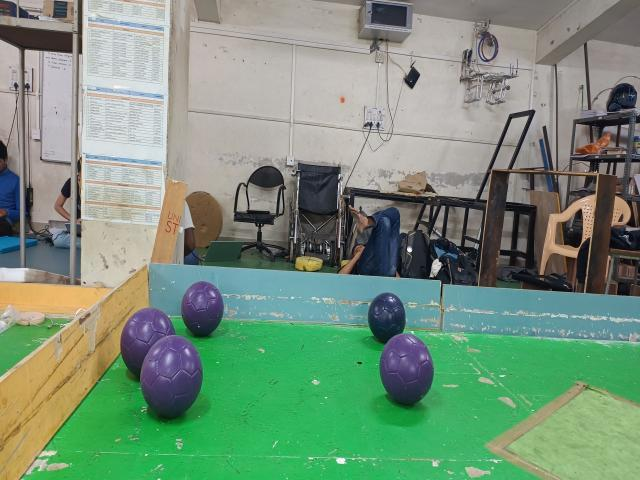jambhalya: (140, 335, 202, 418), (380, 333, 434, 405), (120, 307, 175, 377), (181, 282, 224, 337)
kaalyya: (368, 293, 406, 343)
